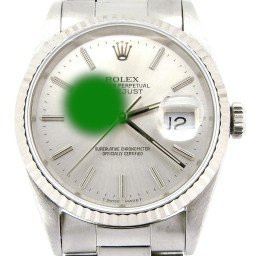focus: (61, 69, 130, 132)
